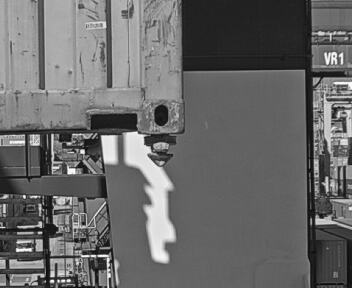twist_lock_2: (115, 128, 157, 172)
